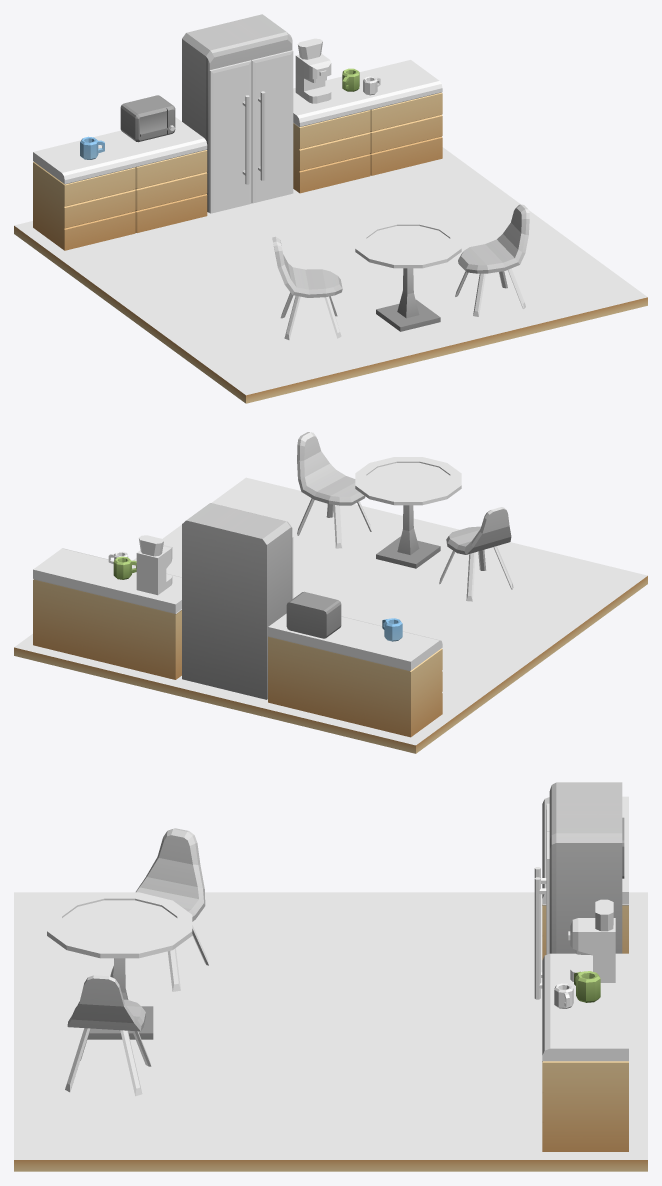
File: kitchen.fbx
3 renders of one model, top to bottom at view 1: azimuth 30°, elevation 25°; view 2: azimuth 150°, elevation 25°; view 3: azimuth 270°, elevation 25°, orthographic. The views are drawn at different scales.
Visible parts, largest first — view 1: kitchen.001; view 2: kitchen.001; view 3: kitchen.001.
Boxes of the visible parts, bbox=[...] form: kitchen.001: bbox=[14, 14, 647, 403]; kitchen.001: bbox=[14, 432, 647, 753]; kitchen.001: bbox=[14, 782, 647, 1171].
Size of the model in its own units: 500 by 200 by 500.
